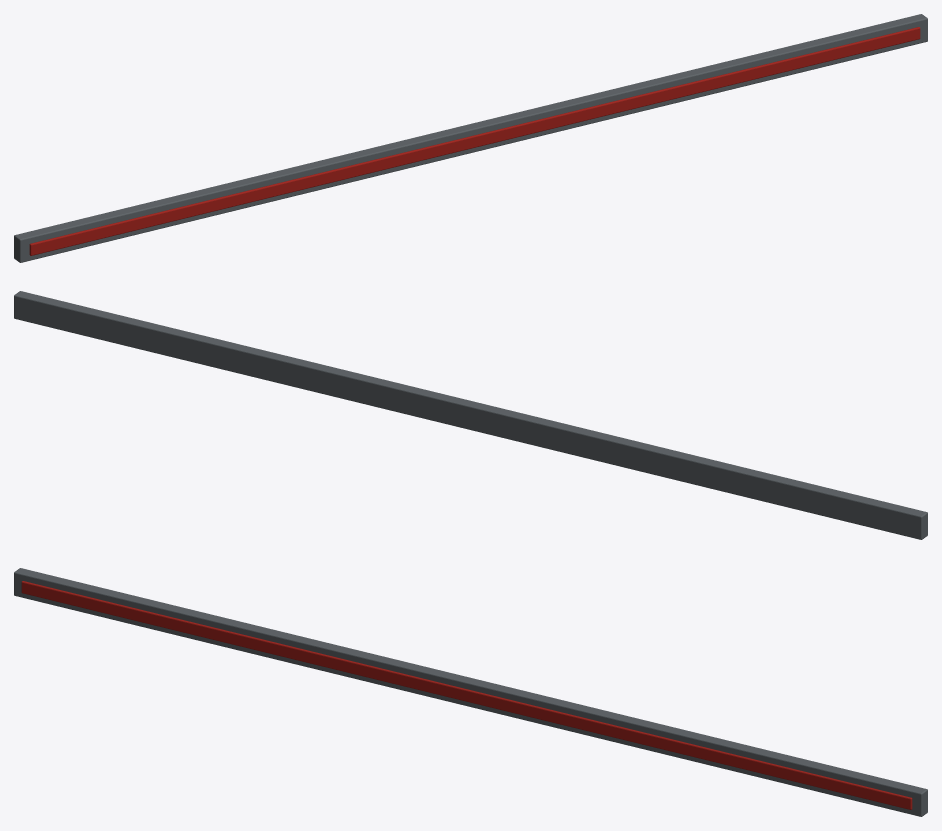
The model's file is PROP_Duress_Strip_2m.glb.
3 renders of one model, top to bottom at view 1: azimuth 30°, elevation 25°; view 2: azimuth 150°, elevation 25°; view 3: azimuth 330°, elevation 25°, orthographic.
Visible parts, largest first — view 1: PROP_Duress_Strip_2m_Mesh; view 2: PROP_Duress_Strip_2m_Mesh; view 3: PROP_Duress_Strip_2m_Mesh.
Part boxes in pixels (x1,y1,x2,y2): PROP_Duress_Strip_2m_Mesh: [14, 14, 927, 262]; PROP_Duress_Strip_2m_Mesh: [14, 291, 927, 539]; PROP_Duress_Strip_2m_Mesh: [14, 568, 927, 816].
Size of the model in its own units: 2 by 0.05 by 0.031.
